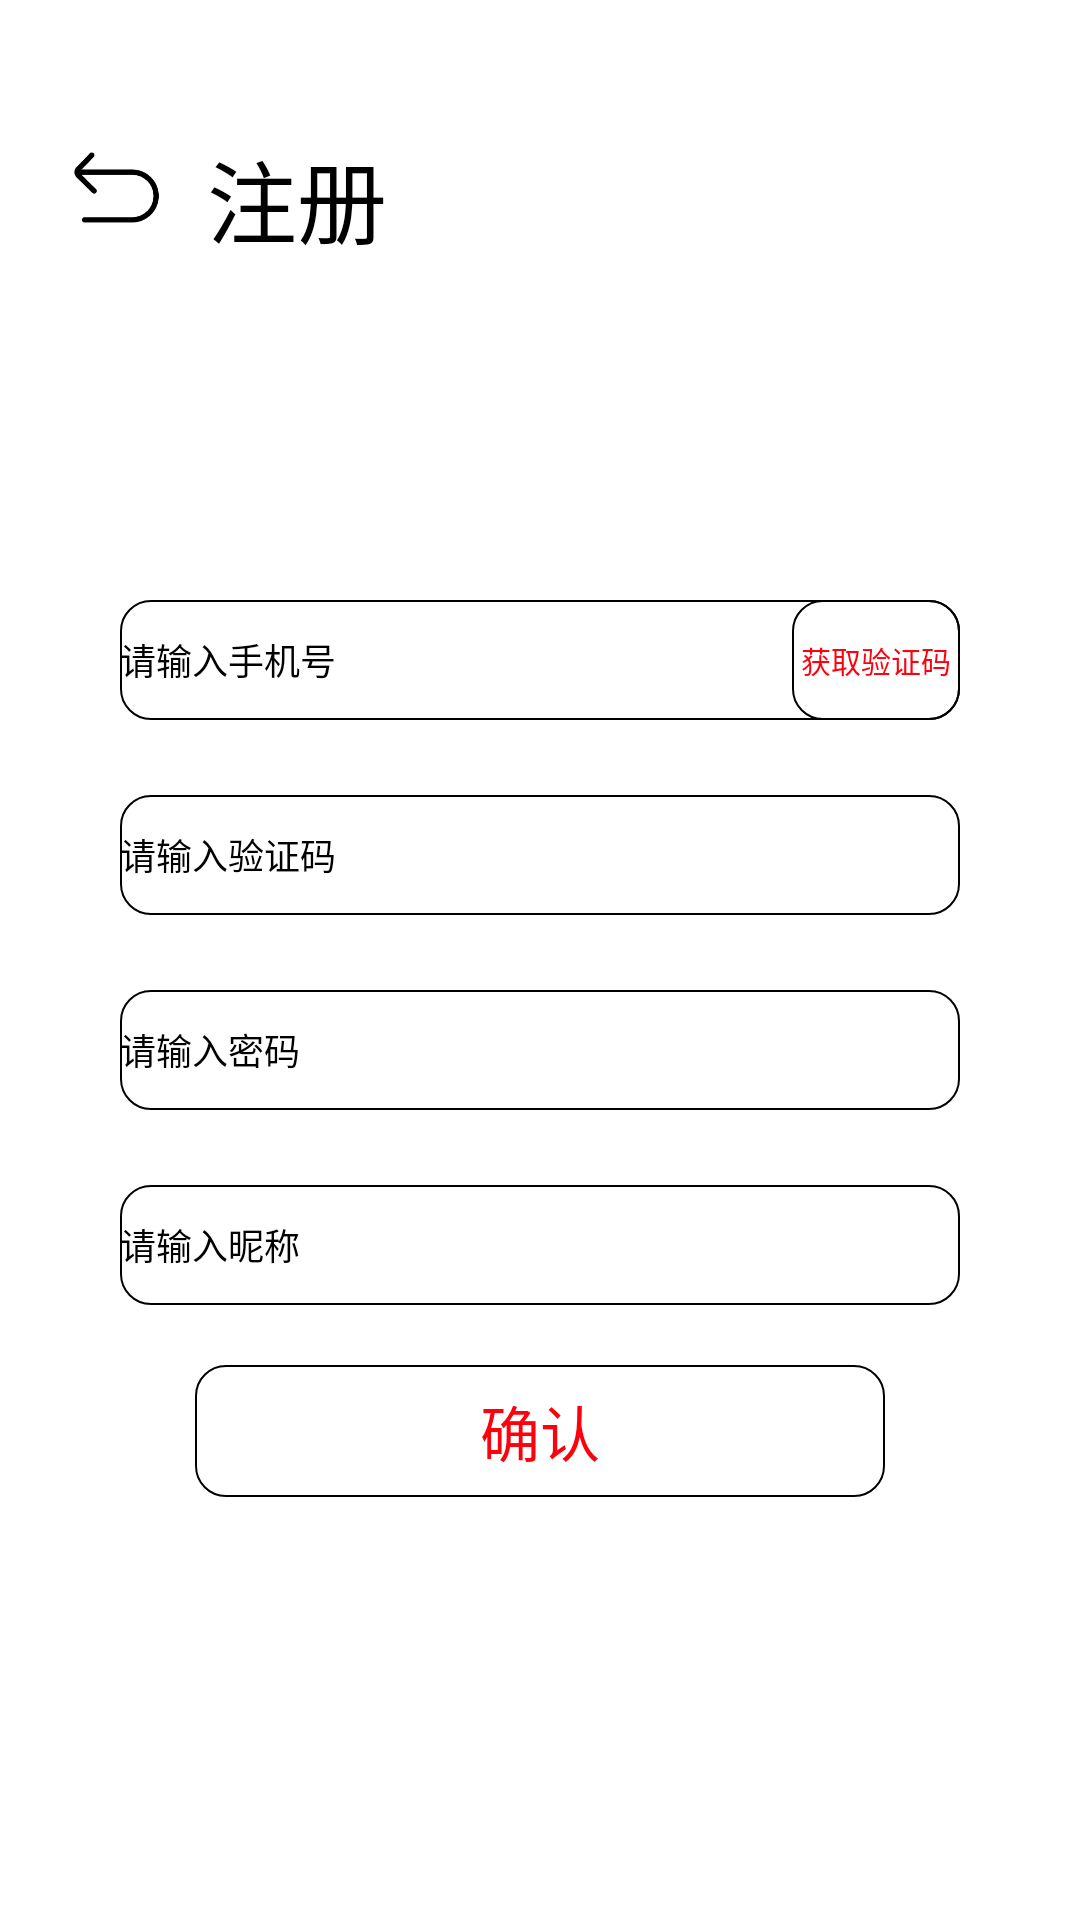

Named icons in this screenshot (1080px×1920px) and their bounding boxes, (x1, y1, x2, y2):
return: (74, 152, 159, 223)
